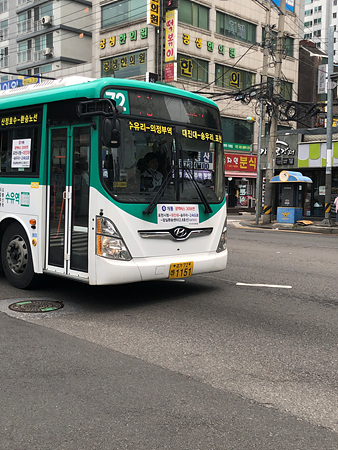entrance: (45, 124, 95, 279)
